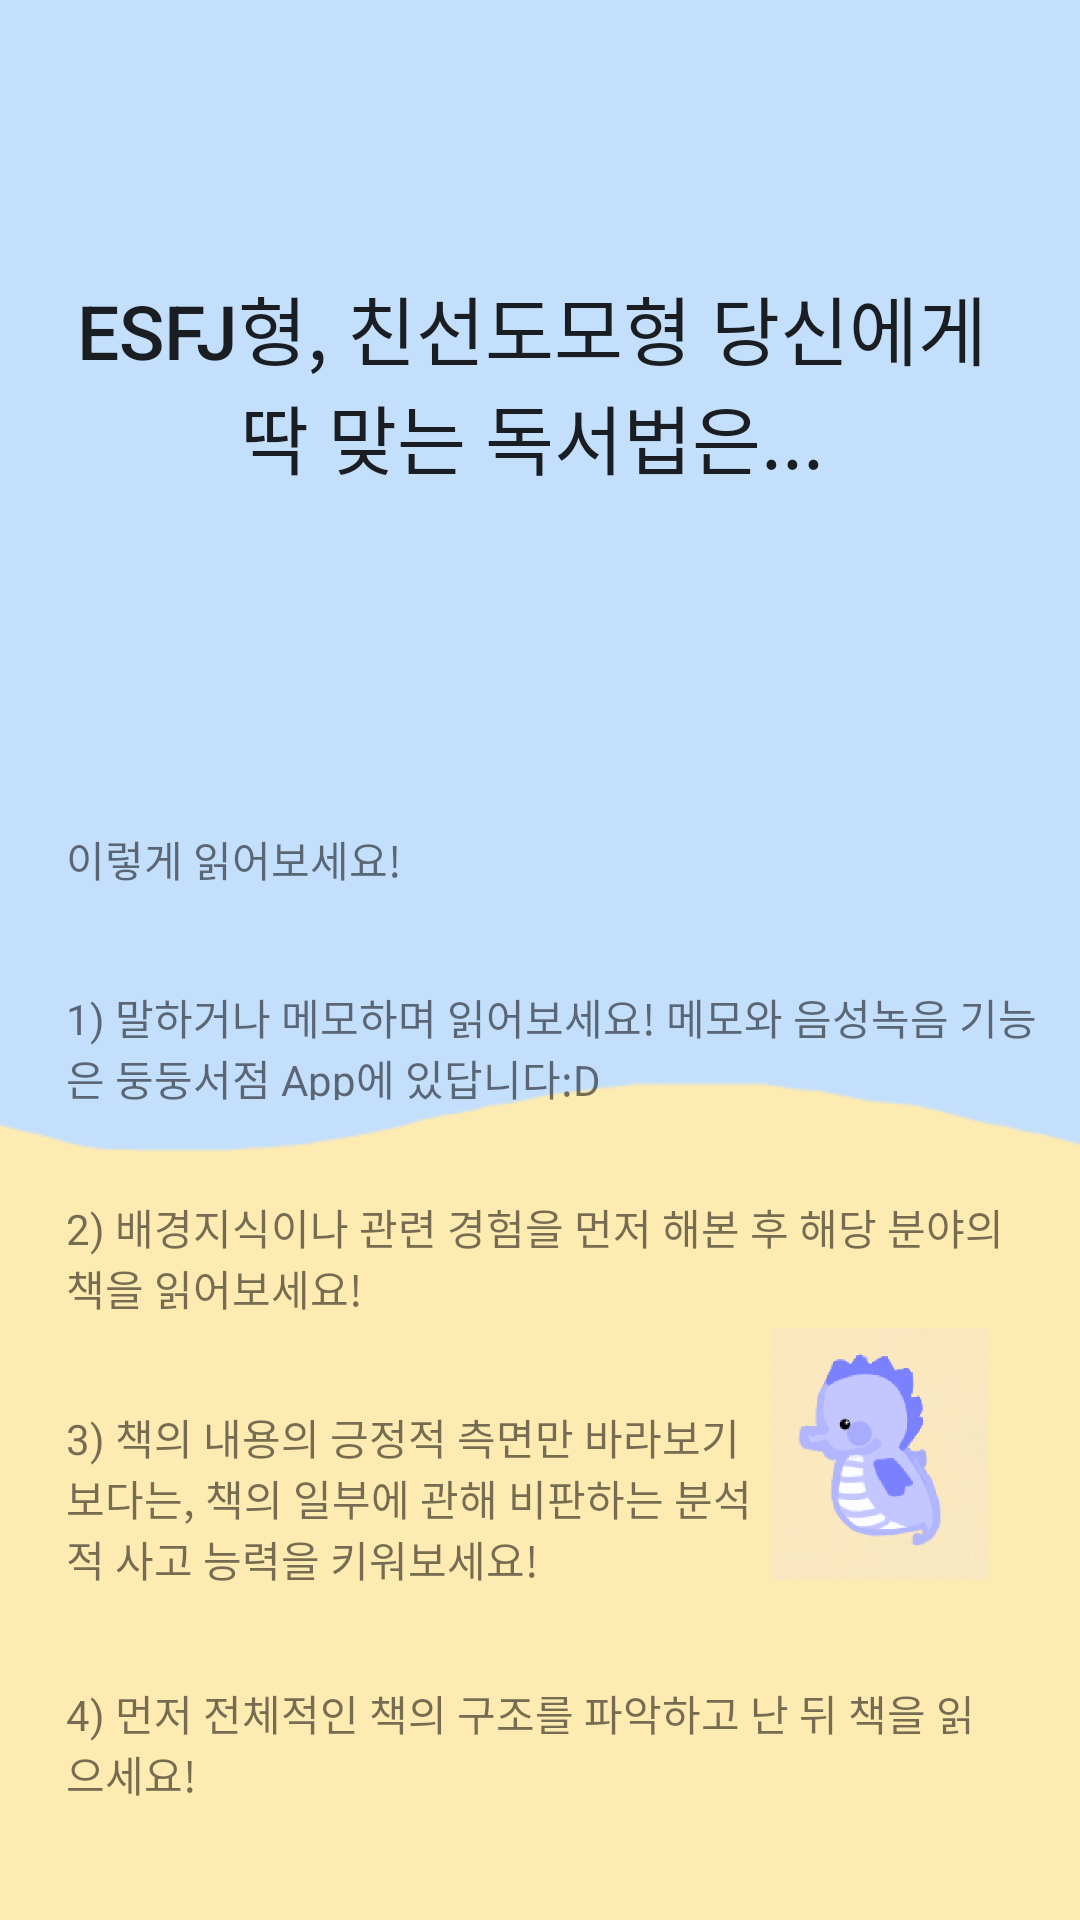

Locate icon controls on the screen. Image size 1080x1920, boxes as [x1, y1, x2, y2].
seahorse: [798, 1353, 941, 1547]
